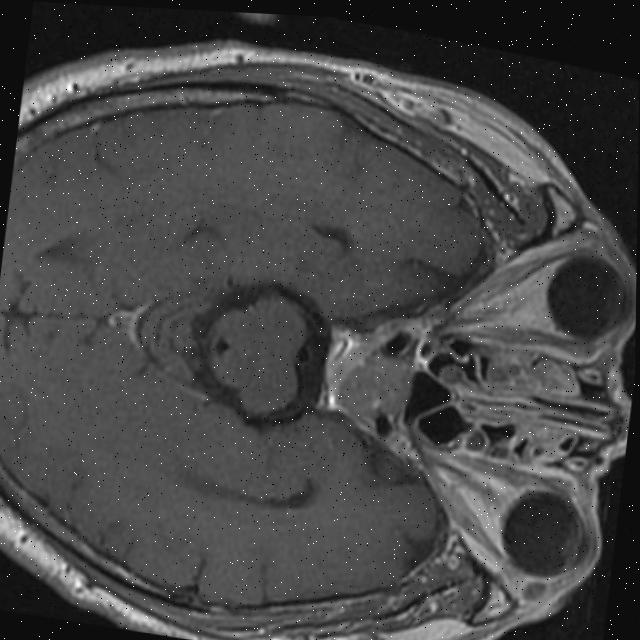Pituitary: (334, 346, 414, 423)
